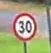limite 30: (10, 10, 37, 40)
